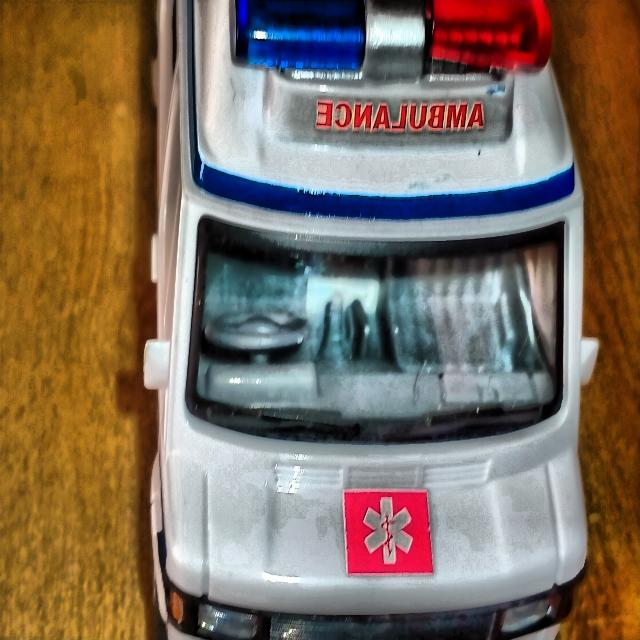Ambulance: (144, 0, 598, 640)
